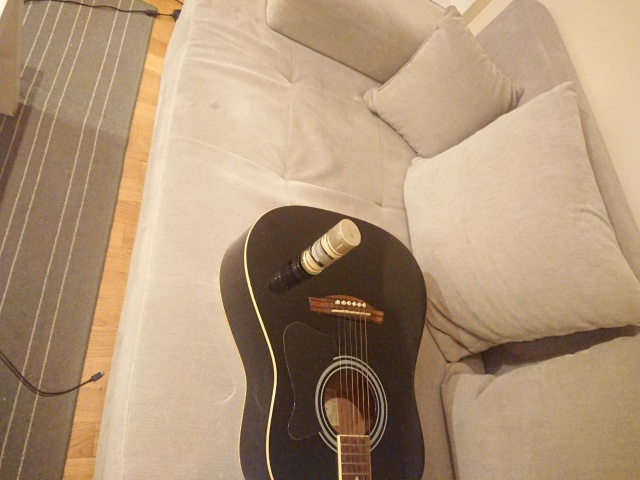Kotanyi Garlic Granules 70g: (297, 217, 363, 278)
